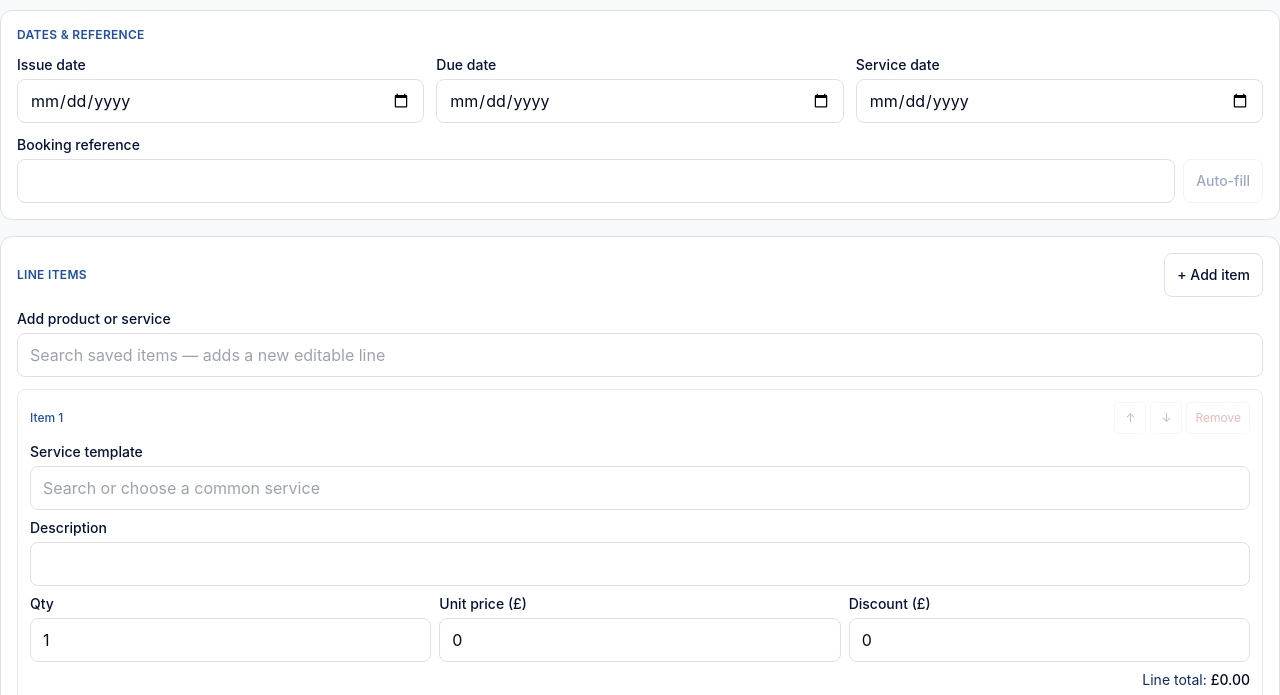
Test case: InvoiceItemsForm — catalogue selector › appends name plus description when the catalogue item has one, with exact non-whole-pound pricing
The image size is (1280, 695).
(page scrolled)
Type "Commercial" into the dropdown with test id "catalogue-combobox".
click(640, 355); type("Commercial")  # box [17,333,1263,377]
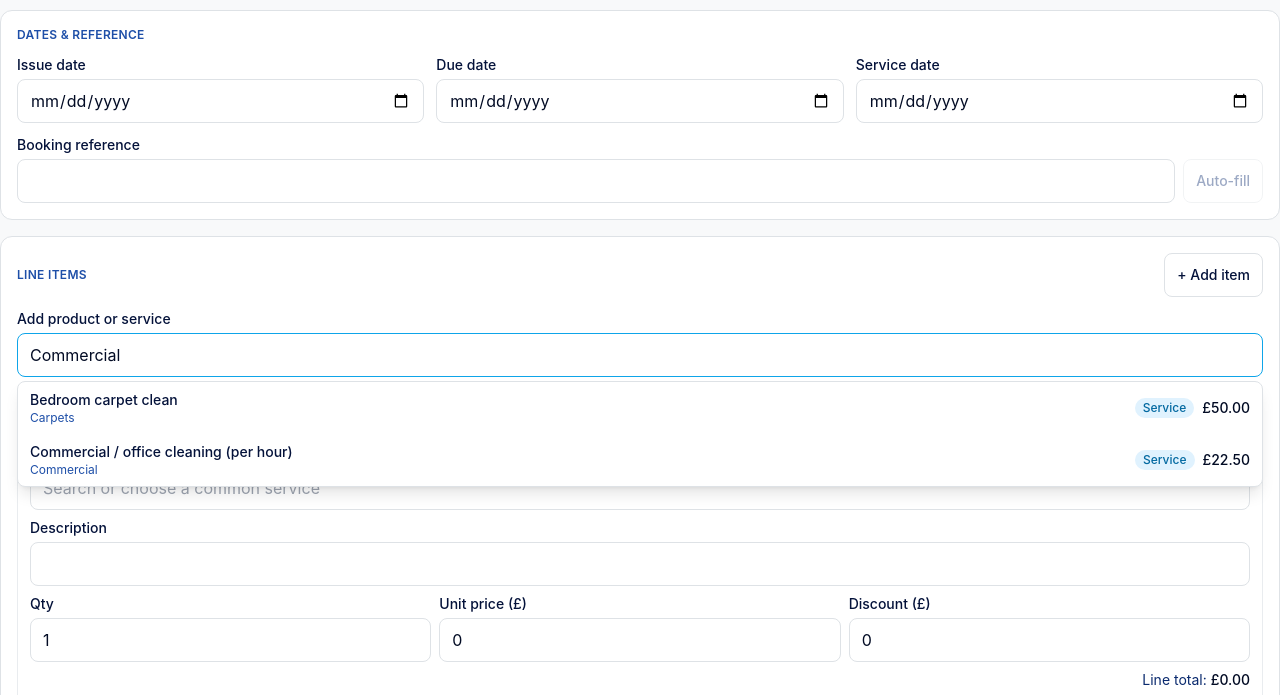
Click the option "Commercial / office cleaning (per hour)".
click(161, 452)  # box [18,434,1262,486]
(page scrolled)
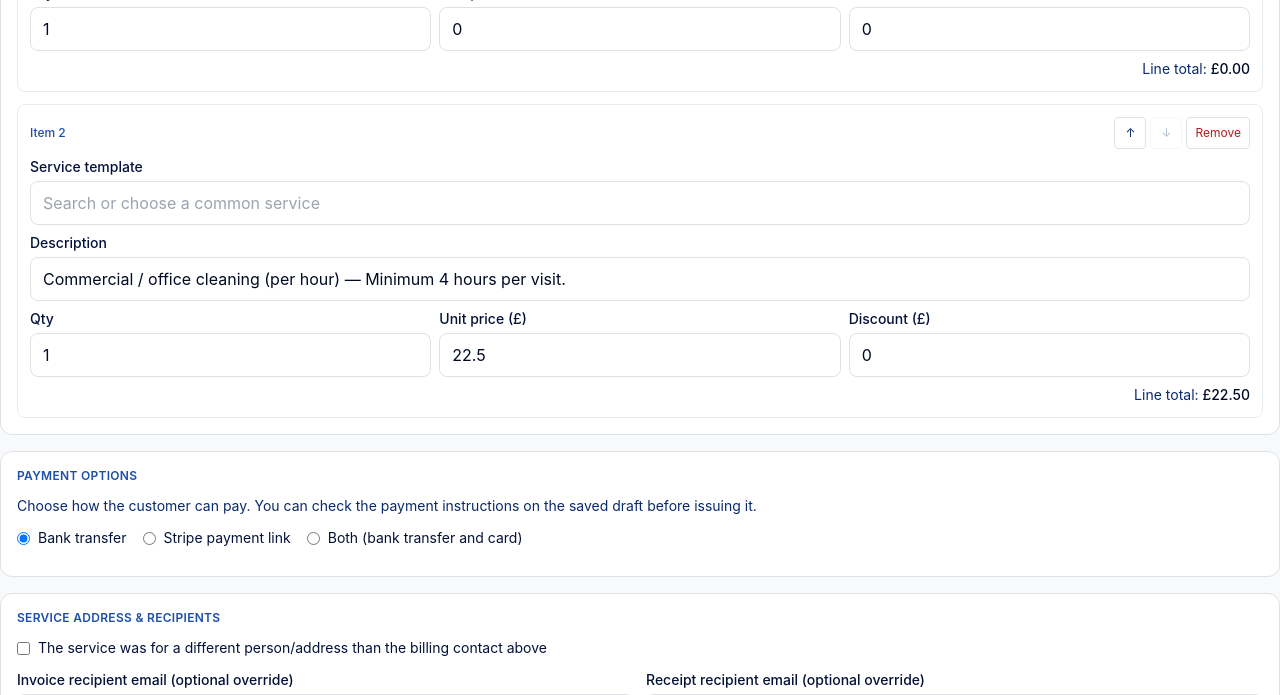
Expected: the field labelled "Description" holds "Commercial / office cleaning (per hour) — Minimum 4 hours per visit.", [30,257,1250,301]
Expected: the 2nd field labelled "Unit price (£)" holds "22.5", [439,333,841,377]
